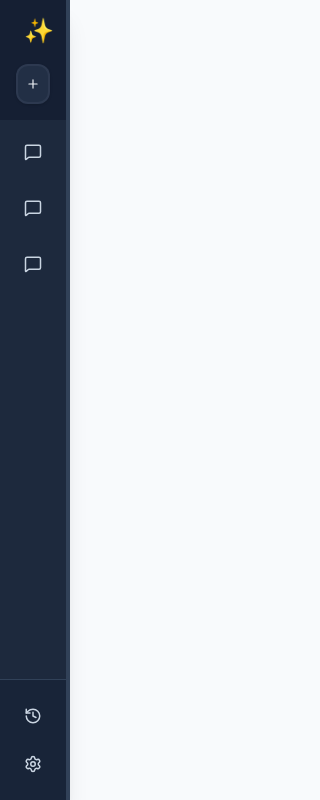
Test: ChatSidebar › renders sidebar items when expanded
The image size is (320, 800).
Click the button "✨" at (39, 32), box 16,16 -> 62,48
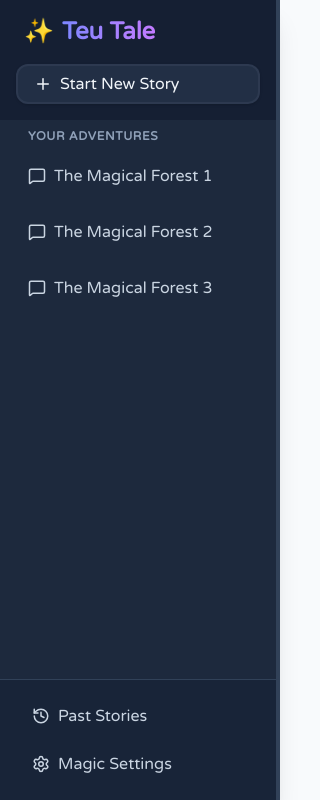
Check: the text "Start New Story" is shown, box 60,72 -> 179,96
Check: the text "Past Stories" is shown, box 58,704 -> 147,728
Check: the text "Magic Settings" is shown, box 58,752 -> 172,776
